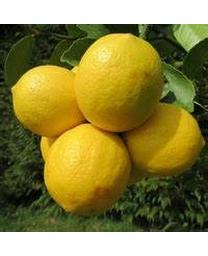lemon: (75, 35, 164, 132), (43, 122, 131, 212), (128, 102, 204, 179), (12, 64, 85, 134)
